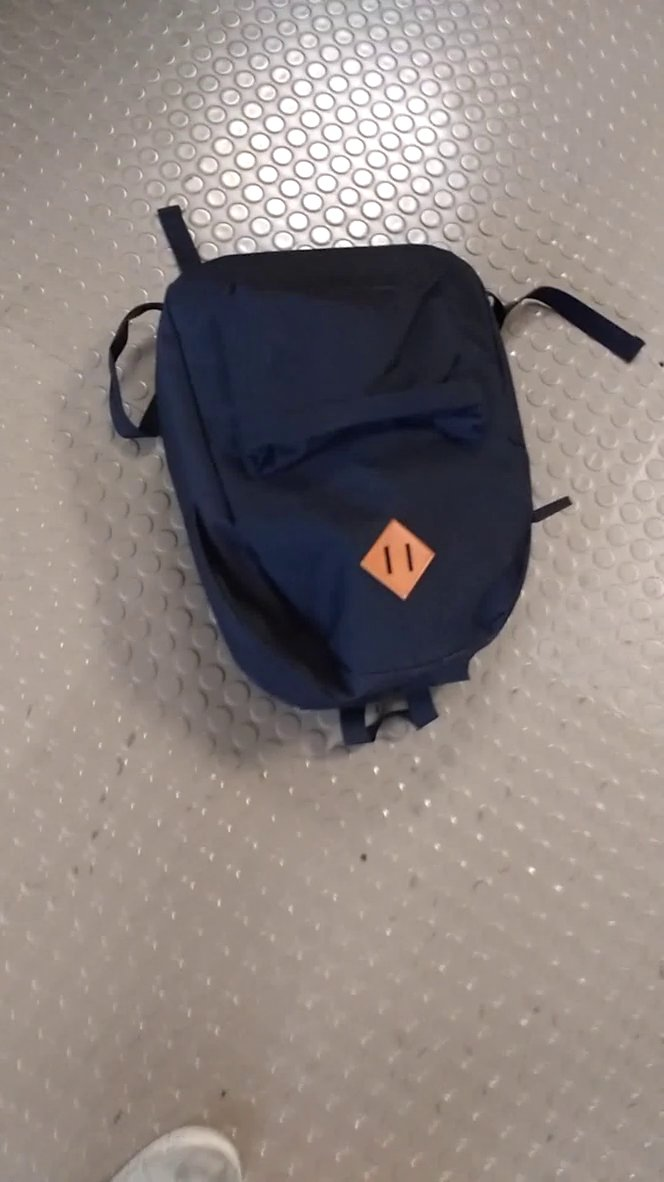bag: (101, 201, 659, 752)
